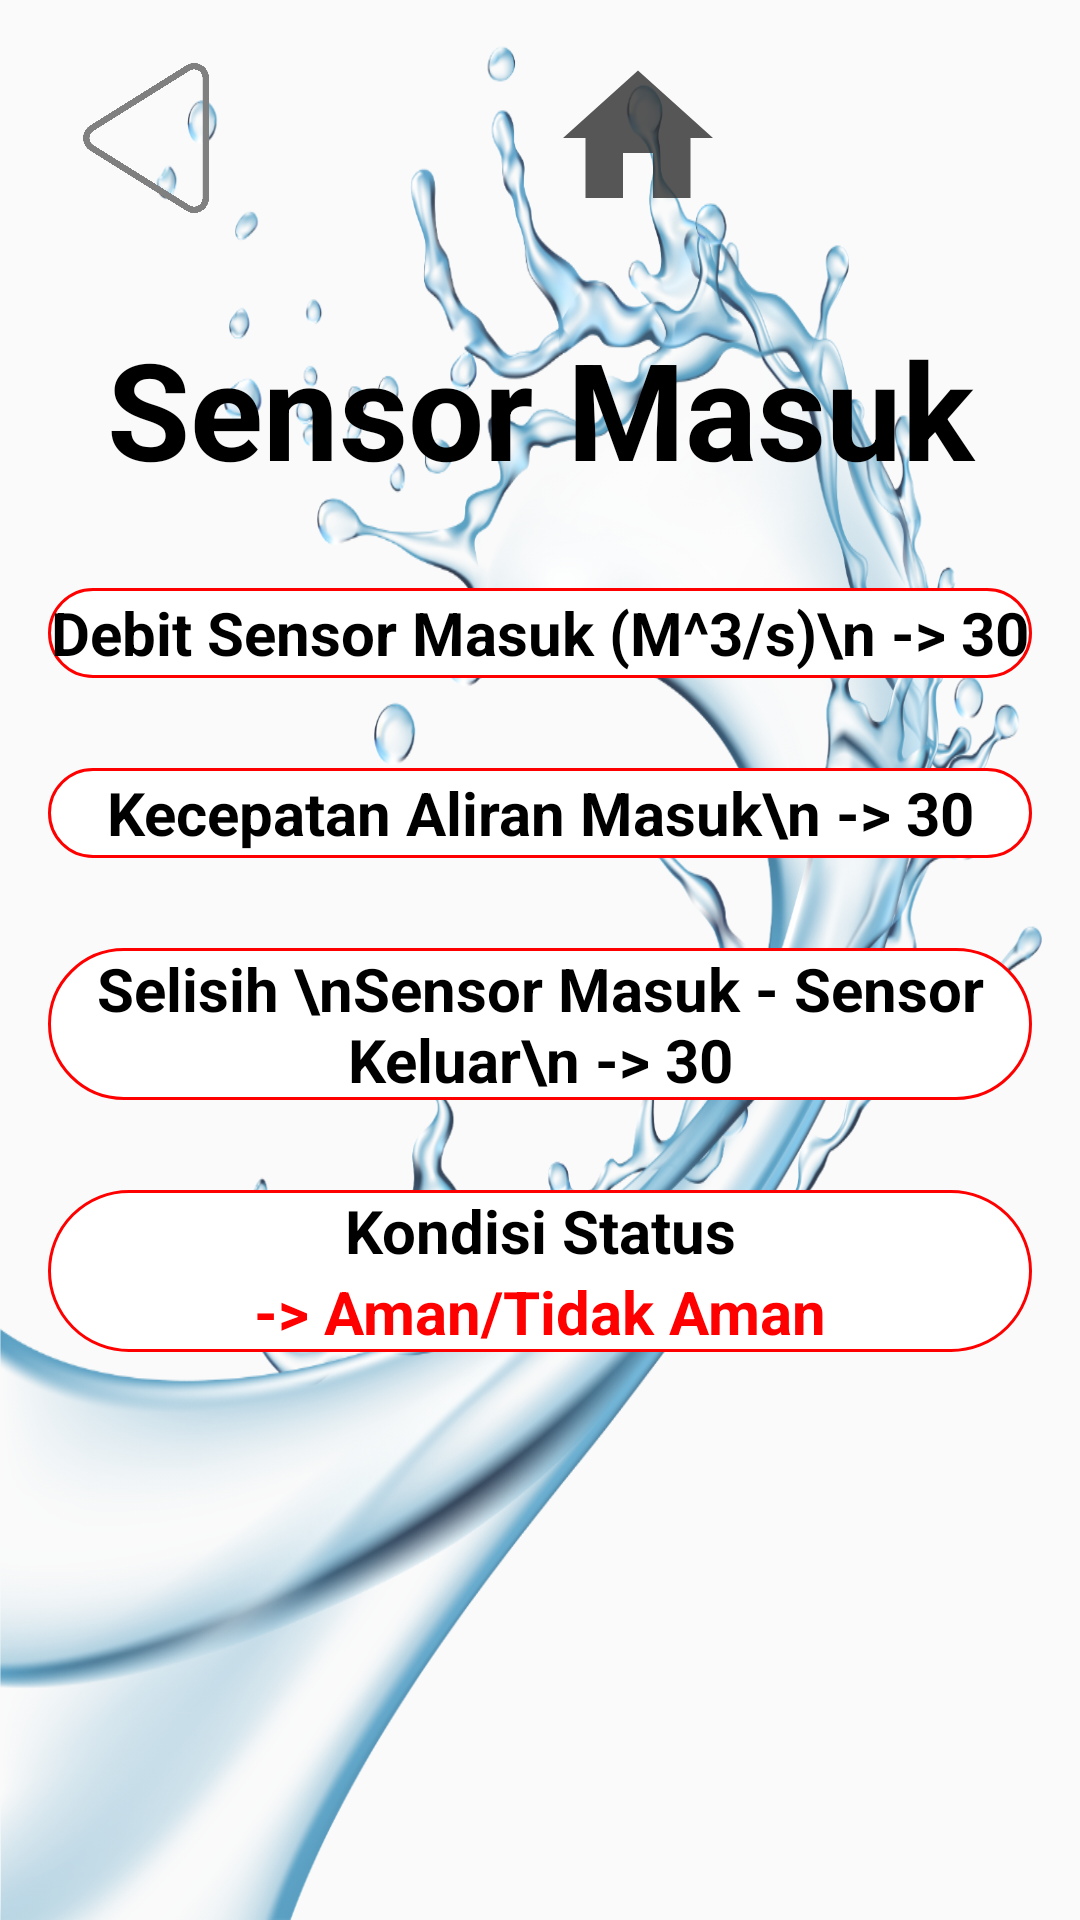

Named icons in this screenshot (1080 × 1920) and their centers, (x=x, y=y):
back: (x=150, y=138)
